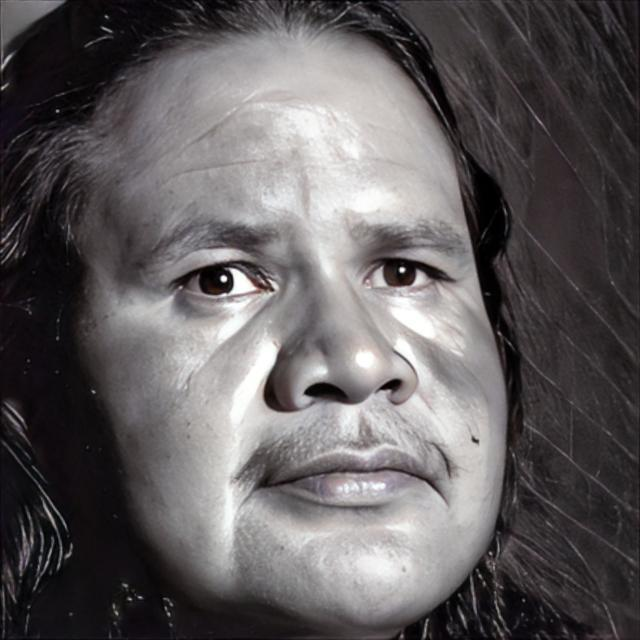sad: (76, 44, 507, 622)
